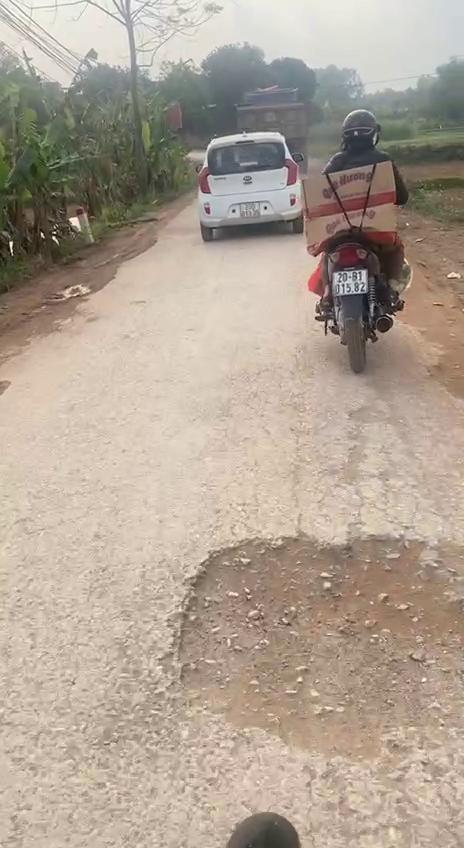pothole: (166, 528, 464, 763), (338, 403, 389, 496)
